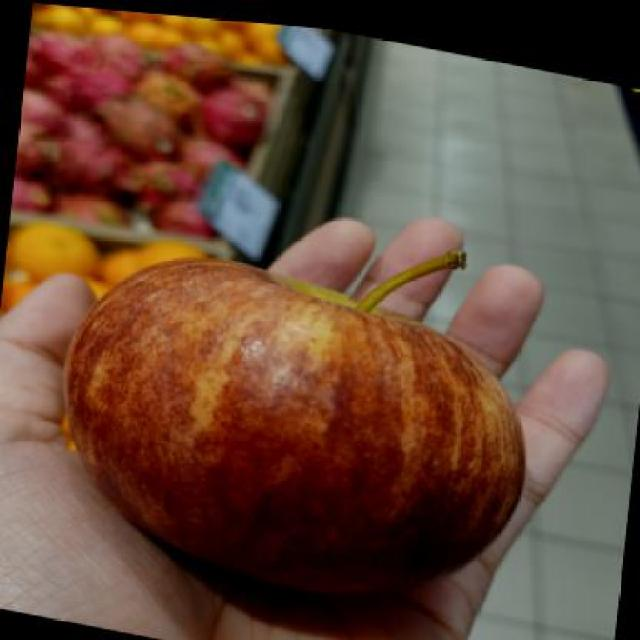Rotten: (43, 243, 513, 595)
